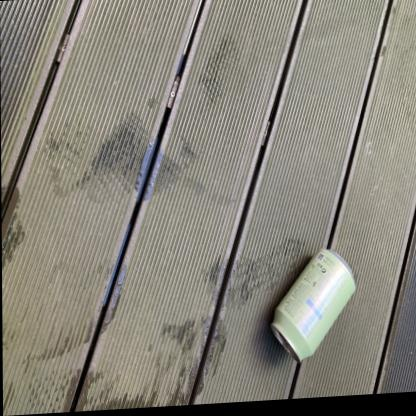trash: (271, 249, 355, 361)
